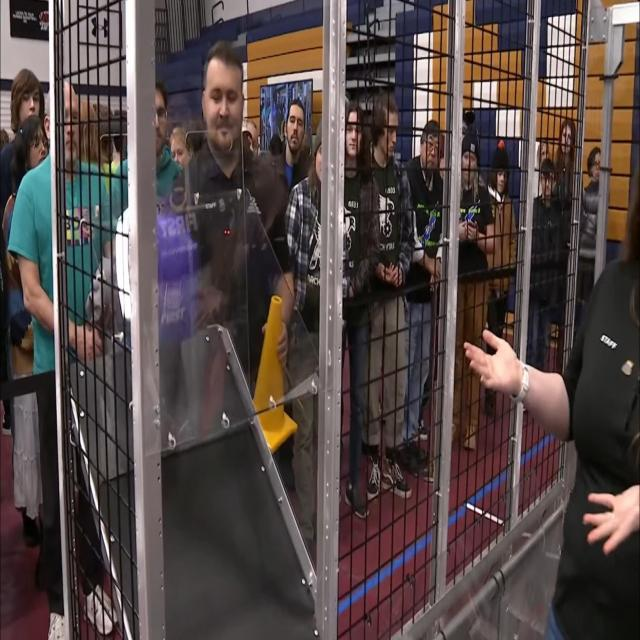frc_cone: (239, 296, 301, 451)
frc_cube: (129, 214, 198, 359)
